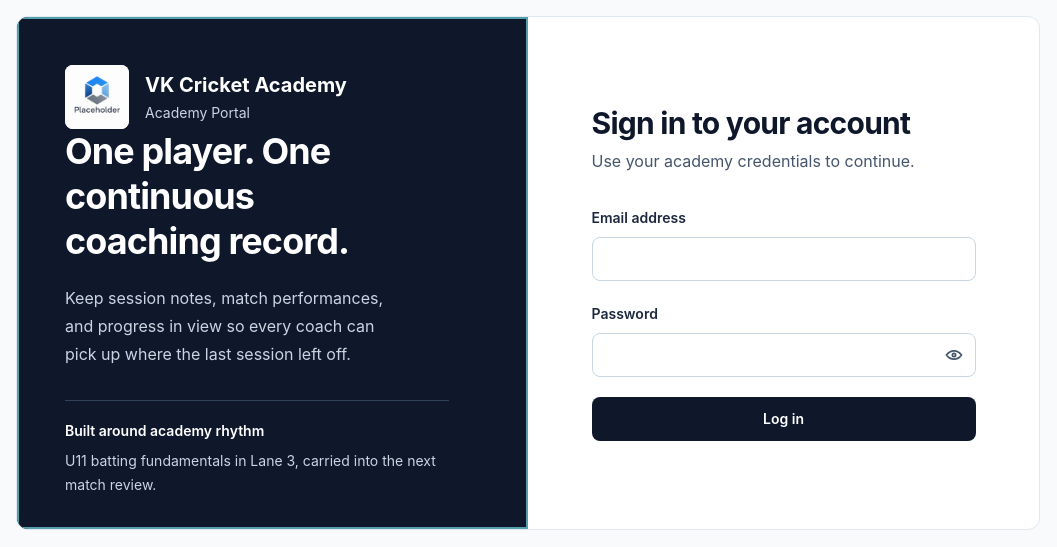
LoginPage › shows field errors and does not submit when required fields are empty
The width and height of the screenshot is (1057, 547).
What coordinates should you click on to do the following:
click the button "Log in"
I would click on:
 (784, 419)
Its box is [592, 397, 976, 441].
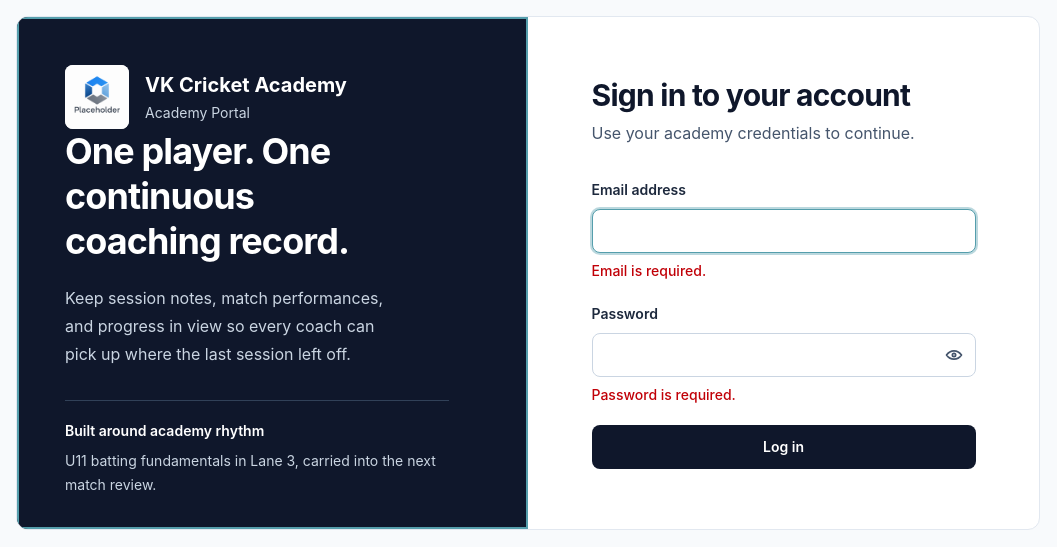
Expected: the text "Email is required." is shown, [592, 262, 706, 279]
Expected: the text "Password is required." is shown, [592, 386, 736, 403]
